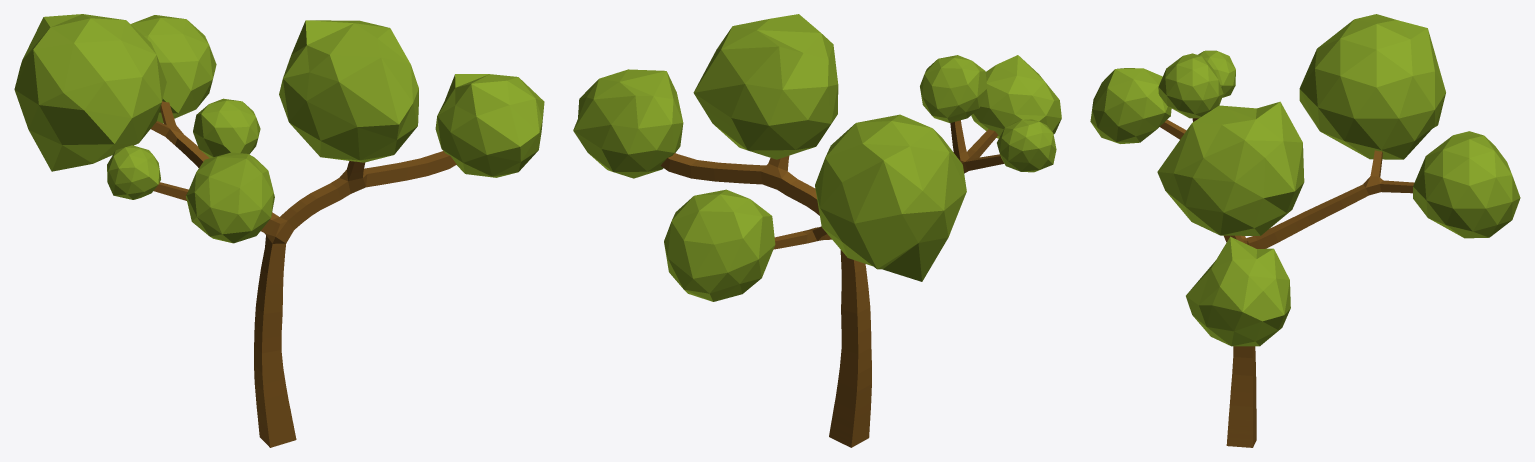
Rendered from Tree.fbx.
3 renders of one model, left to right at view 1: azimuth 30°, elevation 25°; view 2: azimuth 150°, elevation 25°; view 3: azimuth 270°, elevation 25°, orthographic. The views are drawn at different scales.
Visible parts, largest first — view 1: Icosphere.001, Icosphere.005, Plane, Icosphere.006, Icosphere.004, Icosphere, Icosphere.002, Icosphere.003; view 2: Icosphere.001, Icosphere.005, Plane, Icosphere, Icosphere.006, Icosphere.004, Icosphere.002, Icosphere.003; view 3: Icosphere.001, Icosphere.005, Icosphere, Icosphere.006, Plane, Icosphere.004, Icosphere.002, Icosphere.003.
Part boxes in pixels (bbox=[...]): Icosphere.001: bbox=[14, 14, 166, 171]; Icosphere.005: bbox=[279, 20, 418, 162]; Plane: bbox=[151, 101, 456, 447]; Icosphere.006: bbox=[435, 74, 544, 177]; Icosphere.004: bbox=[186, 152, 274, 243]; Icosphere: bbox=[131, 15, 216, 123]; Icosphere.002: bbox=[193, 98, 260, 157]; Icosphere.003: bbox=[107, 145, 160, 199]; Icosphere.001: bbox=[815, 114, 966, 281]; Icosphere.005: bbox=[693, 14, 838, 159]; Plane: bbox=[660, 120, 1004, 447]; Icosphere: bbox=[664, 189, 775, 301]; Icosphere.006: bbox=[573, 69, 683, 178]; Icosphere.004: bbox=[971, 55, 1061, 138]; Icosphere.002: bbox=[920, 55, 987, 122]; Icosphere.003: bbox=[997, 119, 1056, 172]; Icosphere.001: bbox=[1299, 14, 1445, 159]; Icosphere.005: bbox=[1157, 101, 1304, 235]; Icosphere: bbox=[1413, 131, 1520, 238]; Icosphere.006: bbox=[1186, 236, 1290, 346]; Plane: bbox=[1160, 118, 1414, 447]; Icosphere.004: bbox=[1090, 68, 1171, 143]; Icosphere.002: bbox=[1158, 53, 1223, 118]; Icosphere.003: bbox=[1198, 50, 1235, 97].
Bounding box in the file's own units: 913 × 767 × 810.
